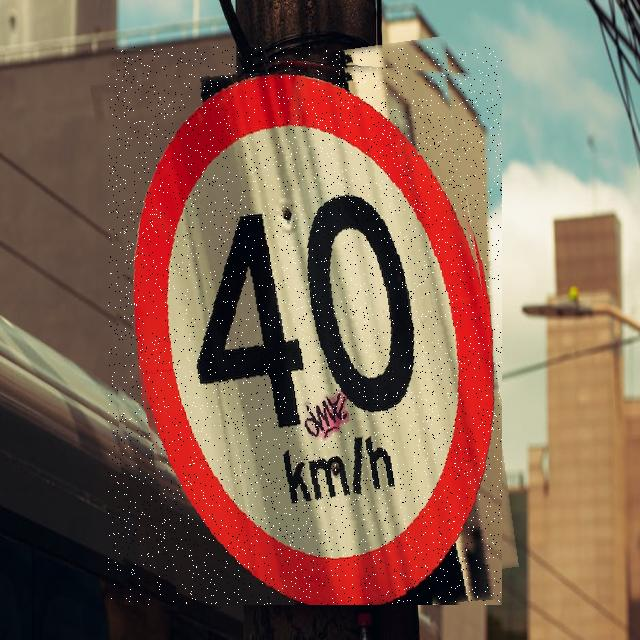speed limit 40: (108, 47, 502, 605)
